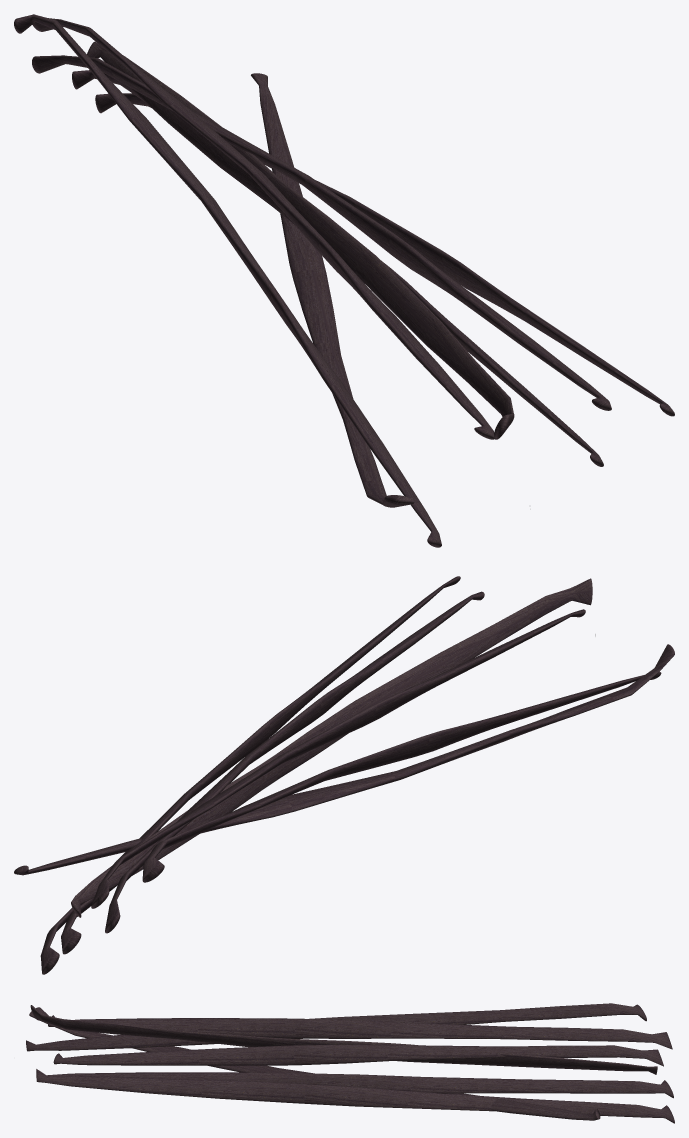
The model's file is vanilla.glb.
3 renders of one model, top to bottom at view 1: azimuth 30°, elevation 25°; view 2: azimuth 150°, elevation 25°; view 3: azimuth 270°, elevation 25°, orthographic. The views are drawn at different scales.
Visible parts, largest first — view 1: Cylinder.007_1, Cylinder.012_6, Cylinder.006_0, Cylinder.008_2, Cylinder.011_5, Cylinder.009_3, Cylinder.010_4; view 2: Cylinder.007_1, Cylinder.006_0, Cylinder.012_6, Cylinder.011_5, Cylinder.008_2, Cylinder.009_3, Cylinder.010_4; view 3: Cylinder.009_3, Cylinder.008_2, Cylinder.011_5, Cylinder.010_4, Cylinder.007_1, Cylinder.012_6, Cylinder.006_0.
Boxes of the visible parts, <box> form: Cylinder.007_1: <box>87,41,514,439</box>; Cylinder.012_6: <box>14,14,441,547</box>; Cylinder.006_0: <box>251,73,414,507</box>; Cylinder.008_2: <box>32,55,611,410</box>; Cylinder.011_5: <box>32,18,494,439</box>; Cylinder.009_3: <box>95,93,674,416</box>; Cylinder.010_4: <box>72,70,603,466</box>; Cylinder.007_1: <box>71,578,592,917</box>; Cylinder.006_0: <box>14,644,674,875</box>; Cylinder.012_6: <box>142,672,661,882</box>; Cylinder.011_5: <box>91,609,585,908</box>; Cylinder.008_2: <box>105,591,484,933</box>; Cylinder.009_3: <box>40,576,460,974</box>; Cylinder.010_4: <box>61,884,117,954</box>; Cylinder.009_3: <box>36,1070,674,1123</box>; Cylinder.008_2: <box>53,1045,663,1066</box>; Cylinder.011_5: <box>48,1015,672,1049</box>; Cylinder.010_4: <box>36,1069,673,1098</box>; Cylinder.007_1: <box>30,1005,657,1074</box>; Cylinder.012_6: <box>26,1003,646,1051</box>; Cylinder.006_0: <box>29,1007,600,1120</box>.
Size of the model in its own units: 0.984 by 0.4088 by 2.68.
Materials: 2 (1 with a texture image).
